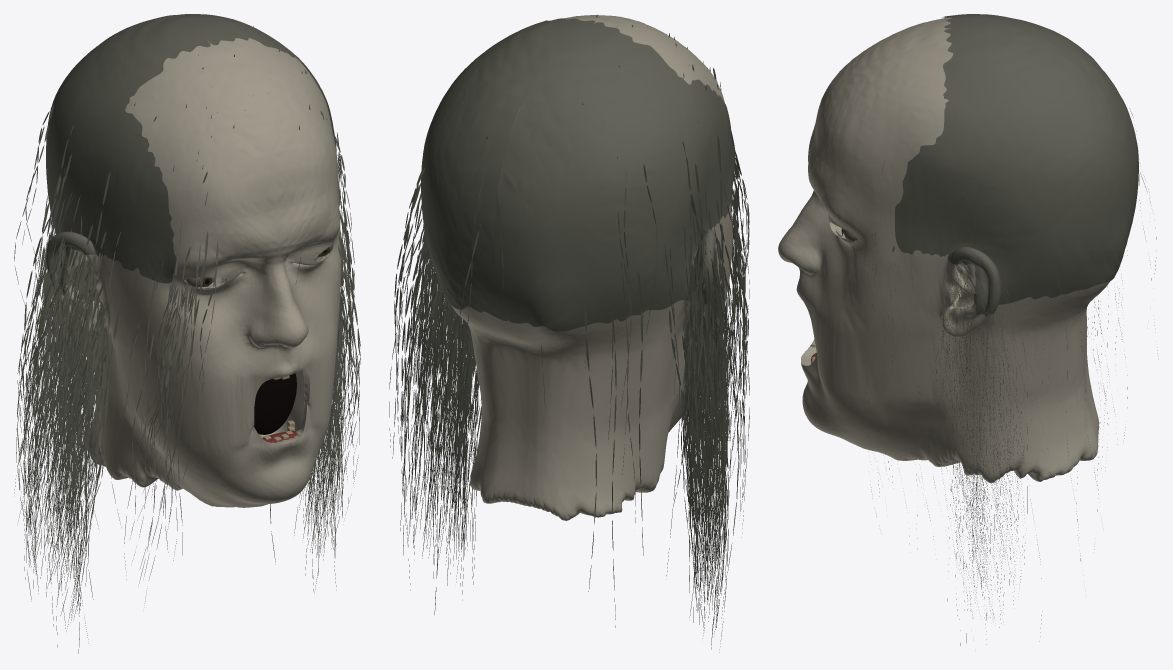
Rendered from granny-head.glb.
The picture shows the model from 3 angles, left to right: view 1: azimuth 30°, elevation 25°; view 2: azimuth 150°, elevation 25°; view 3: azimuth 270°, elevation 25°; orthographic projection. The views are drawn at different scales.
Visible parts, largest first — view 1: Scannedagedvisitorskin, Dirtygreyhairfibres, Deeporalcavity; view 2: Dirtygreyhairfibres, Scannedagedvisitorskin; view 3: Scannedagedvisitorskin, Dirtygreyhairfibres.
Boxes of the visible parts, x1,y1,x2,y2 form: Scannedagedvisitorskin: (59, 38, 341, 507); Dirtygreyhairfibres: (14, 14, 360, 653); Deeporalcavity: (254, 373, 296, 434); Dirtygreyhairfibres: (389, 14, 749, 652); Scannedagedvisitorskin: (451, 15, 732, 520); Scannedagedvisitorskin: (778, 17, 1110, 483); Dirtygreyhairfibres: (857, 14, 1157, 645).
Size of the model in its own units: 0.4296 by 0.749 by 0.4511.
